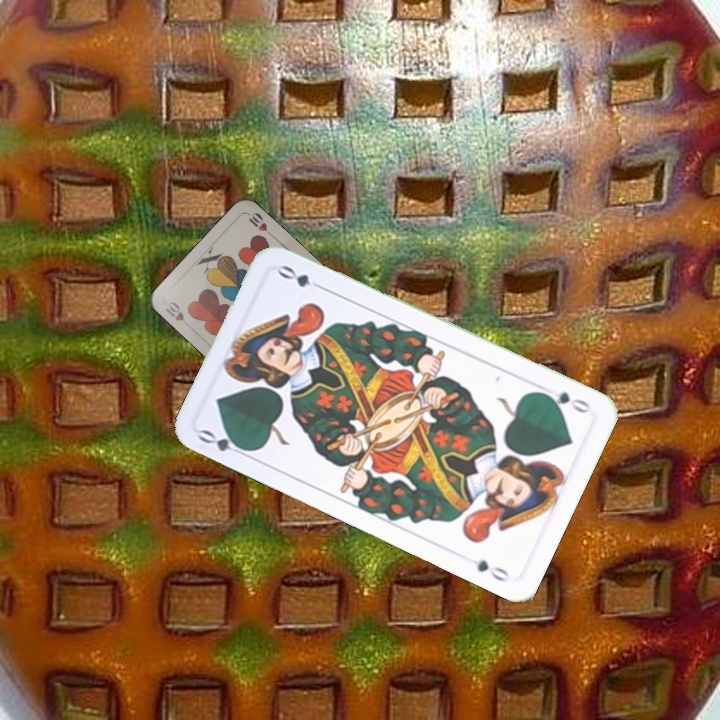GO: (194, 425, 253, 460), (536, 387, 593, 416)
H10: (161, 297, 194, 331)
